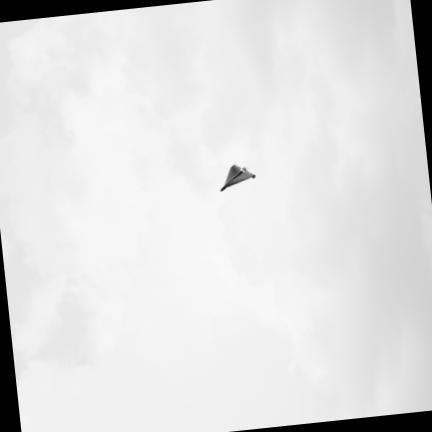Shahed: (221, 164, 255, 191)
